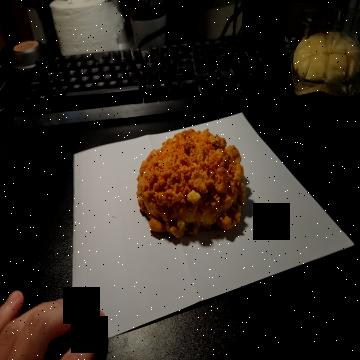soboru_bread: (138, 127, 246, 238)
